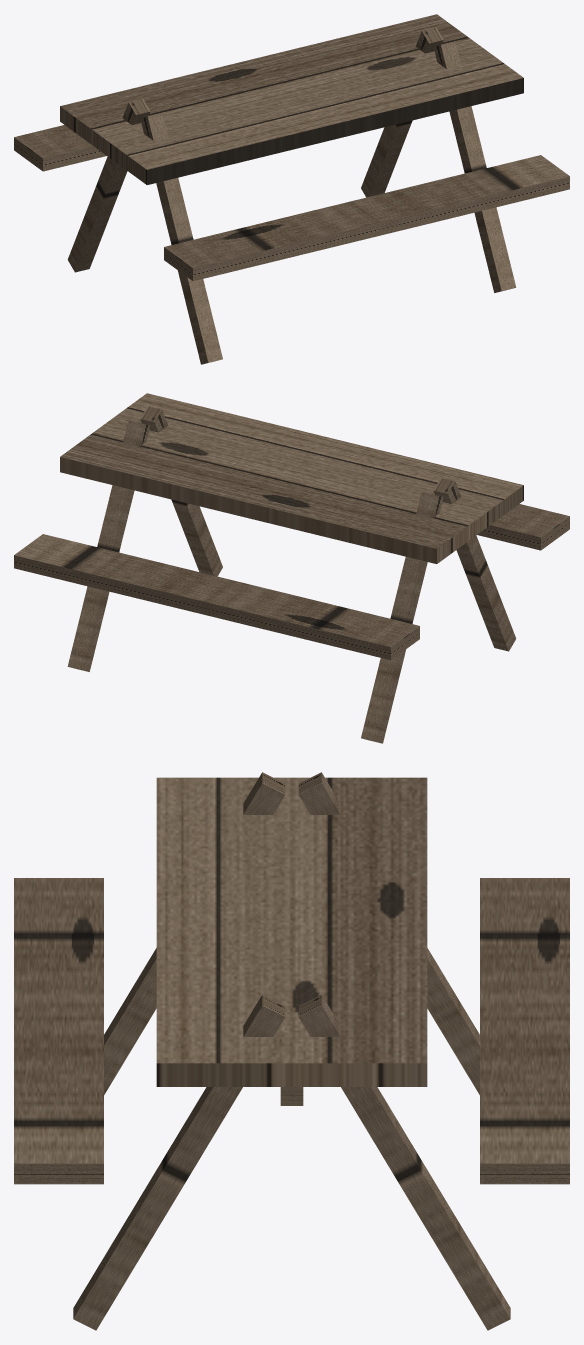
The model's file is WK_FUR_PicnicTable.glb.
The picture shows the model from 3 angles, top to bottom: view 1: azimuth 30°, elevation 25°; view 2: azimuth 150°, elevation 25°; view 3: azimuth 270°, elevation 25°; orthographic projection. The views are drawn at different scales.
Parts seen in each view (by area): view 1: WK_FUR_PicnicTable_P01, WK_FUR_PicnicTable_P02, WK_FUR_PicnicTable_P04, WK_FUR_PicnicTable_P06, WK_FUR_PicnicTable_P05, WK_FUR_PicnicTable_P03, WK_FUR_PicnicTable_P07; view 2: WK_FUR_PicnicTable_P01, WK_FUR_PicnicTable_P03, WK_FUR_PicnicTable_P05, WK_FUR_PicnicTable_P07, WK_FUR_PicnicTable_P04, WK_FUR_PicnicTable_P02, WK_FUR_PicnicTable_P06; view 3: WK_FUR_PicnicTable_P01, WK_FUR_PicnicTable_P02, WK_FUR_PicnicTable_P03, WK_FUR_PicnicTable_P06, WK_FUR_PicnicTable_P07, WK_FUR_PicnicTable_P04, WK_FUR_PicnicTable_P05.
Boxes of the visible parts, bbox=[...] form: WK_FUR_PicnicTable_P01: bbox=[60, 14, 523, 184]; WK_FUR_PicnicTable_P02: bbox=[164, 155, 569, 281]; WK_FUR_PicnicTable_P04: bbox=[140, 113, 222, 364]; WK_FUR_PicnicTable_P06: bbox=[433, 41, 516, 292]; WK_FUR_PicnicTable_P05: bbox=[67, 99, 150, 272]; WK_FUR_PicnicTable_P03: bbox=[14, 125, 106, 171]; WK_FUR_PicnicTable_P07: bbox=[361, 27, 443, 197]; WK_FUR_PicnicTable_P01: bbox=[60, 393, 523, 563]; WK_FUR_PicnicTable_P03: bbox=[14, 534, 419, 660]; WK_FUR_PicnicTable_P05: bbox=[361, 492, 443, 743]; WK_FUR_PicnicTable_P07: bbox=[67, 420, 150, 671]; WK_FUR_PicnicTable_P04: bbox=[433, 478, 516, 651]; WK_FUR_PicnicTable_P02: bbox=[477, 504, 569, 550]; WK_FUR_PicnicTable_P06: bbox=[140, 406, 222, 576]; WK_FUR_PicnicTable_P01: bbox=[156, 777, 427, 1086]; WK_FUR_PicnicTable_P02: bbox=[14, 878, 103, 1184]; WK_FUR_PicnicTable_P03: bbox=[480, 878, 569, 1184]; WK_FUR_PicnicTable_P06: bbox=[73, 994, 285, 1330]; WK_FUR_PicnicTable_P07: bbox=[298, 994, 510, 1330]; WK_FUR_PicnicTable_P04: bbox=[104, 772, 285, 1094]; WK_FUR_PicnicTable_P05: bbox=[298, 772, 479, 1094].
Bounding box in the file's own units: 1.8 × 0.955 × 1.48.
1 material, 1 textured.
